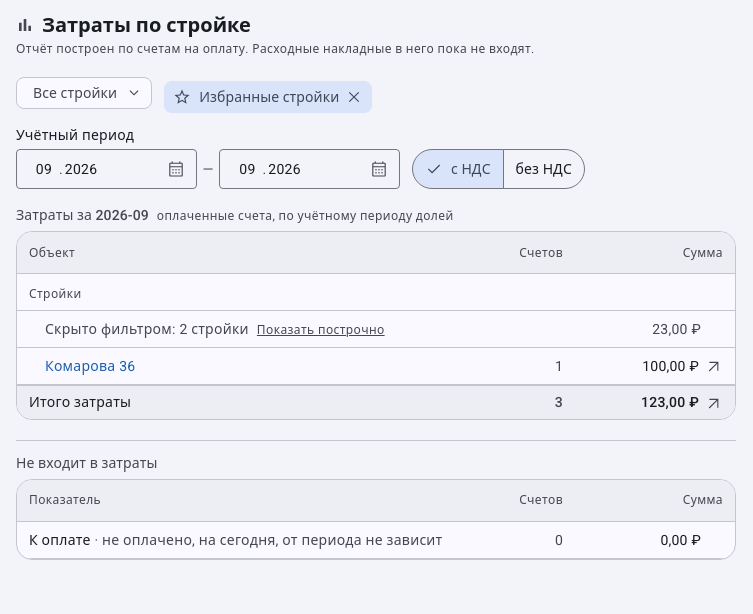
Test: отчёт всех строек под фильтром › раскрытое — только для этого отчёта: другой период приходит снова свёрнутым
This screenshot has width=753, height=614.
Step 1. Click the button "Показать построчно" → coordinates (321, 330), box [257,322,385,338]
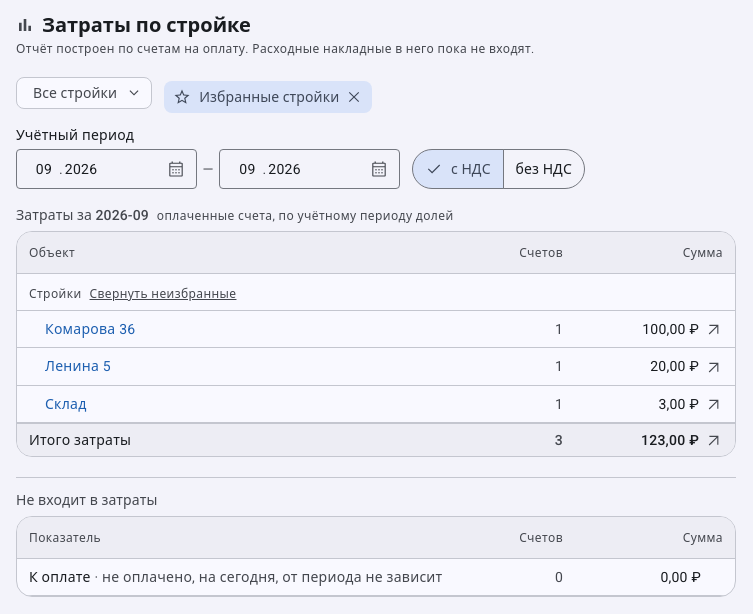
Now the button "Ленина 5" is shown, box [45,356,111,376]
Now the element with test id "site-costs-folded" is gone
Step 2. Replace the text in the 2nd field named "месяц" with "10" → coordinates (247, 169), box [232,159,262,179]
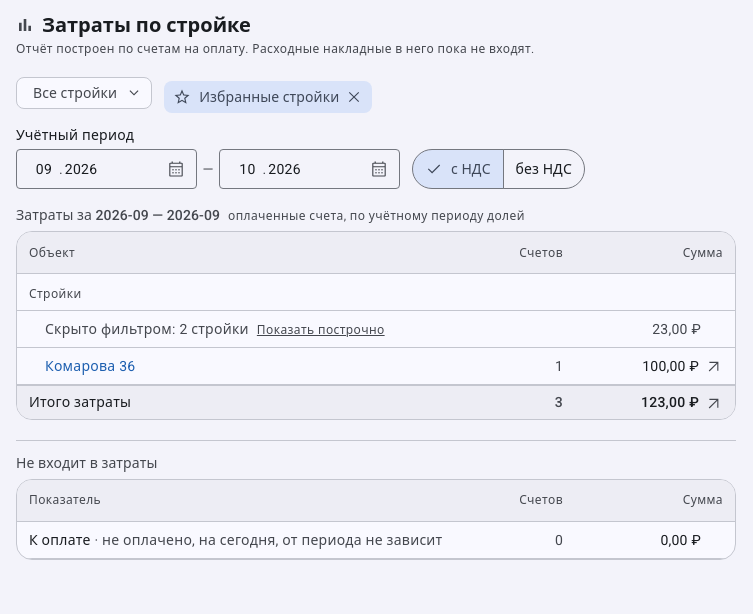
Now the element with test id "site-costs-folded" is shown, box [29,321,385,337]
Now the button "Ленина 5" is gone
